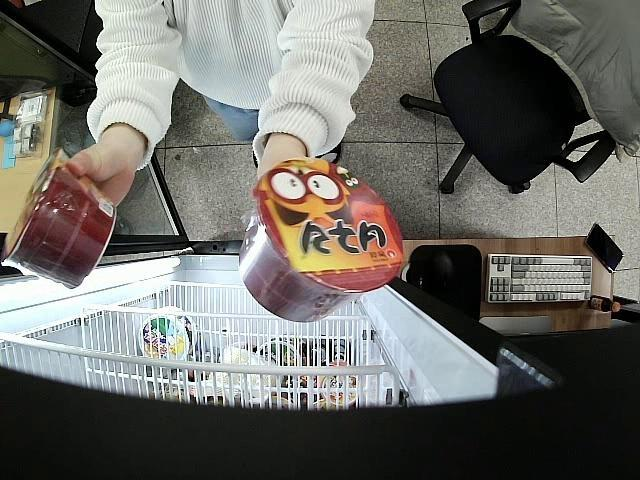05_nuguri_L: (236, 158, 404, 323), (1, 147, 116, 290)
